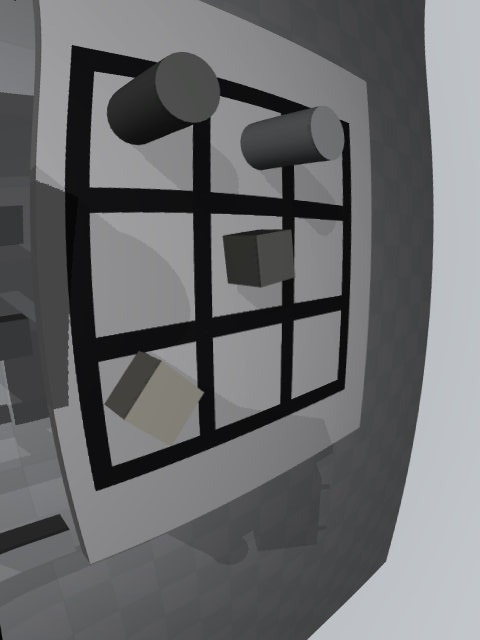can: (241, 105, 345, 170)
cube: (222, 229, 295, 288)
cylinder: (106, 52, 220, 145)
foam: (104, 351, 203, 446)
